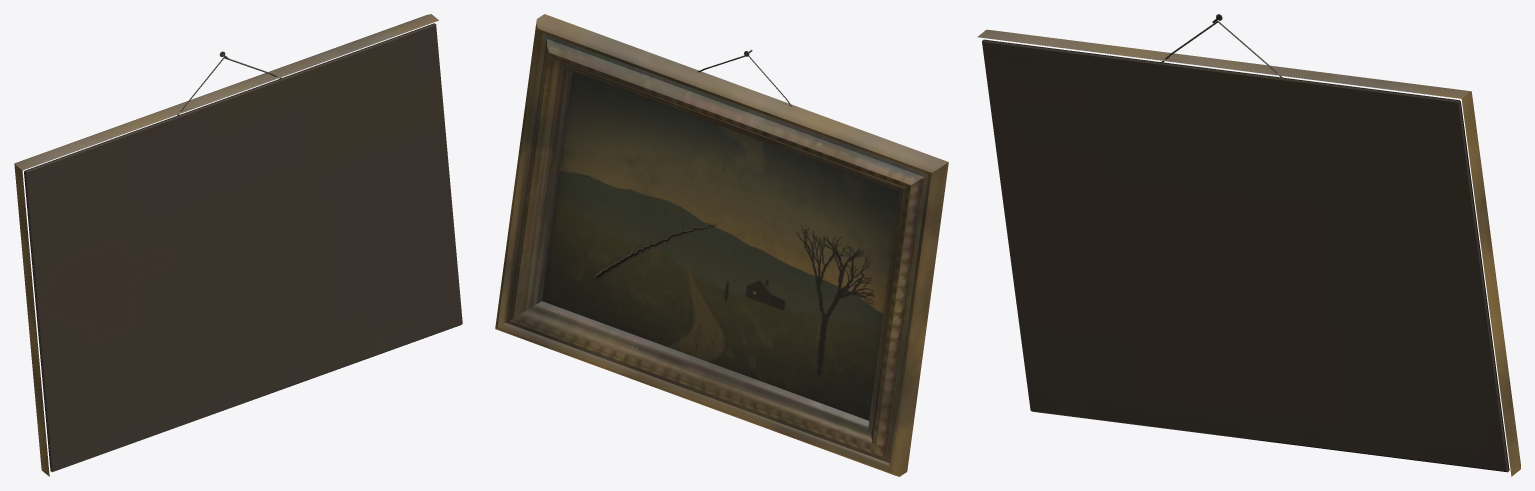
The model's file is dressing_frame_landscape.glb.
3 views of the same model, side by side, from view 1: azimuth 30°, elevation 25°; view 2: azimuth 150°, elevation 25°; view 3: azimuth 330°, elevation 25° (orthographic). The views are drawn at different scales.
Parts seen in each view (by area): view 1: dressing_frame_landscape; view 2: dressing_frame_landscape; view 3: dressing_frame_landscape.
Part boxes in pixels (bbox=[...]): dressing_frame_landscape: bbox=[14, 14, 462, 476]; dressing_frame_landscape: bbox=[495, 14, 948, 476]; dressing_frame_landscape: bbox=[977, 14, 1520, 476].
Size of the model in its own units: 0.8455 by 0.6943 by 0.0741.
1 material, 1 textured.
